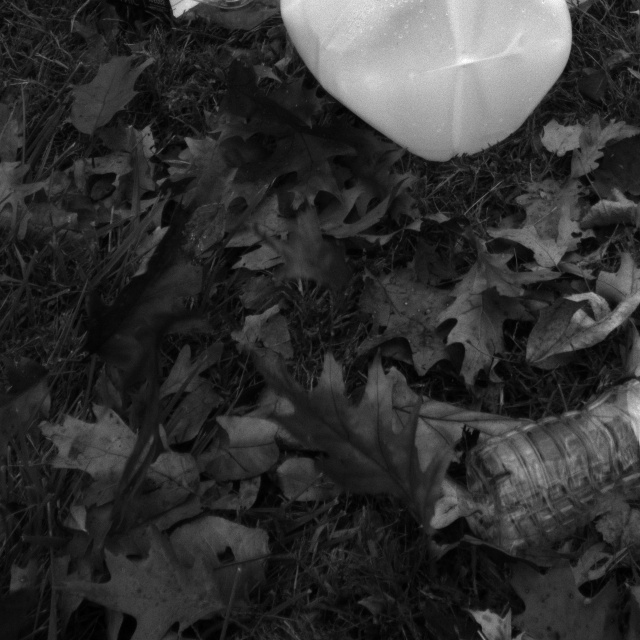bottle: (453, 345, 640, 560)
can: (276, 0, 571, 167)
